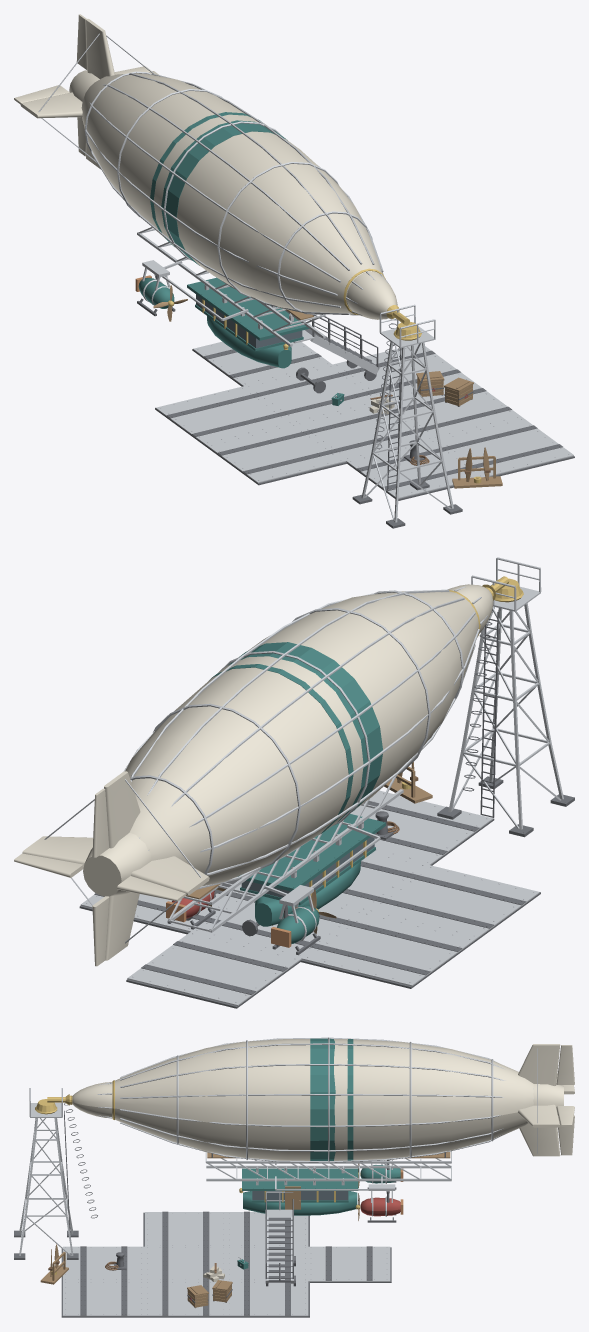
File: airship-dock-light.glb
3 views of the same model, one above another, from view 1: azimuth 30°, elevation 25°; view 2: azimuth 150°, elevation 25°; view 3: azimuth 270°, elevation 25° (orthographic). The views are drawn at different scales.
Visible parts, largest first — view 1: 065-airship-envelope0, 072-mooring-mast0, 065-airship-envelope2, 069-airship-gondola0, 032-dock-deck-plate1, 031-dock-deck-plate1, 047-dock-deck-plate1, 038-dock-deck-plate1, 065-airship-envelope3, 039-dock-deck-plate1, 046-dock-deck-plate1, 040-dock-deck-plate1 (+17 smaller); view 2: 065-airship-envelope0, 072-mooring-mast0, 031-dock-deck-plate1, 037-dock-deck-plate1, 065-airship-envelope2, 032-dock-deck-plate1, 065-airship-envelope3, 069-airship-gondola0, 040-dock-deck-plate1, 068-airship-keel-truss0, 065-airship-envelope1, 038-dock-deck-plate1 (+22 smaller); view 3: 065-airship-envelope0, 065-airship-envelope2, 065-airship-envelope3, 069-airship-gondola0, 068-airship-keel-truss0, 047-dock-deck-plate1, 037-dock-deck-plate1, 032-dock-deck-plate1, 045-dock-deck-plate1, 039-dock-deck-plate1, 072-mooring-mast0, 040-dock-deck-plate1 (+26 smaller).
Part boxes in pixels (x1,y1,x2,y2): 065-airship-envelope0: (81, 73, 383, 314); 072-mooring-mast0: (361, 304, 453, 522); 065-airship-envelope2: (85, 73, 383, 315); 069-airship-gondola0: (187, 277, 309, 368); 032-dock-deck-plate1: (206, 423, 346, 483); 031-dock-deck-plate1: (155, 386, 294, 445); 047-dock-deck-plate1: (435, 418, 573, 476); 038-dock-deck-plate1: (244, 364, 376, 423); 065-airship-envelope3: (150, 112, 287, 265); 039-dock-deck-plate1: (295, 405, 434, 460); 046-dock-deck-plate1: (390, 380, 522, 438); 040-dock-deck-plate1: (346, 439, 485, 498); 065-airship-envelope0: (125, 591, 478, 886); 072-mooring-mast0: (448, 557, 563, 829); 031-dock-deck-plate1: (301, 911, 475, 986); 037-dock-deck-plate1: (127, 931, 301, 1005); 065-airship-envelope2: (124, 589, 479, 889); 032-dock-deck-plate1: (366, 865, 539, 939); 065-airship-envelope3: (209, 642, 382, 834); 069-airship-gondola0: (237, 814, 385, 926); 040-dock-deck-plate1: (352, 791, 492, 865); 068-airship-keel-truss0: (168, 775, 403, 932); 065-airship-envelope1: (130, 590, 464, 874); 038-dock-deck-plate1: (191, 893, 364, 958); 065-airship-envelope0: (112, 1039, 533, 1160); 065-airship-envelope2: (120, 1037, 533, 1162); 065-airship-envelope3: (310, 1038, 353, 1160); 069-airship-gondola0: (242, 1168, 358, 1215); 068-airship-keel-truss0: (205, 1151, 451, 1190); 047-dock-deck-plate1: (63, 1281, 144, 1316); 037-dock-deck-plate1: (308, 1246, 390, 1281); 032-dock-deck-plate1: (145, 1212, 226, 1246); 045-dock-deck-plate1: (226, 1281, 308, 1316); 039-dock-deck-plate1: (145, 1246, 226, 1280); 072-mooring-mast0: (19, 1088, 73, 1255); 040-dock-deck-plate1: (63, 1246, 144, 1280).
Bounding box in the file's own units: 12 × 11.07 × 27.44.
